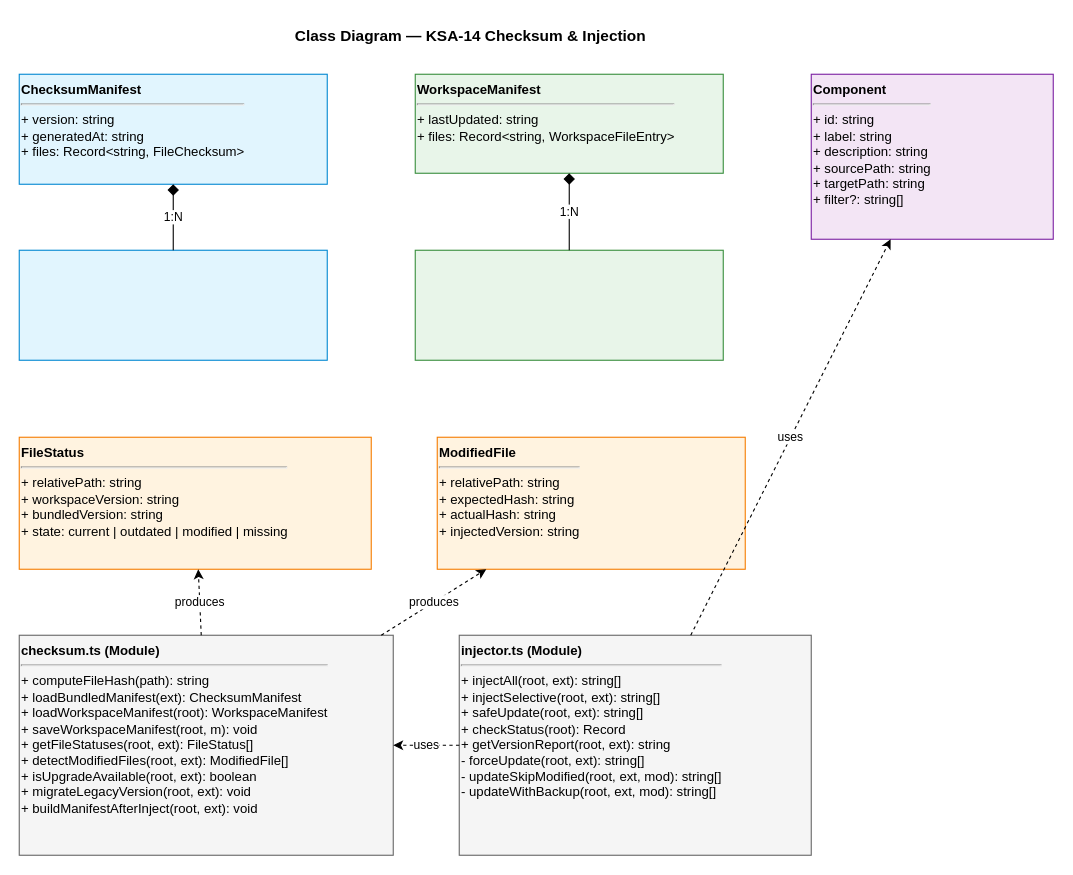
The diagram is 1073 pixels wide and 875 high, and some of its shapes have lost their labels. Each missing label, with the centre of its shape:
"FileChecksum + hash: string + version: string + injectedAt: string" belongs at (172,304).
"WorkspaceFileEntry + version: string + hash: string + injectedAt: string" belongs at (568,304).
